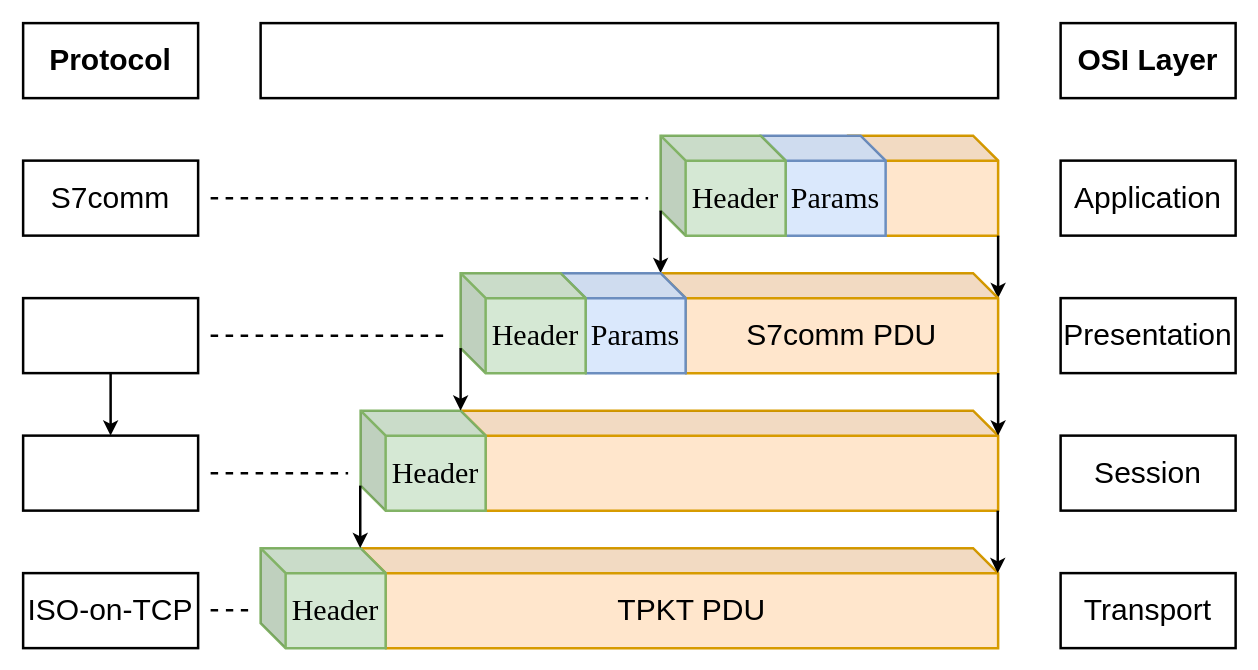
The diagram is 1258 pixels wide and 670 high, and some of its shapes have lost their labels. The box of each missing label's shape, as (x1, y1, x2, y2) in pixels:
DATA: (846, 134, 999, 236)
Encapsulation: (259, 21, 999, 99)
ISO-COTP: (21, 296, 199, 374)
ISO-COTP PDU: (459, 409, 999, 511)
TPKT: (21, 434, 199, 511)
